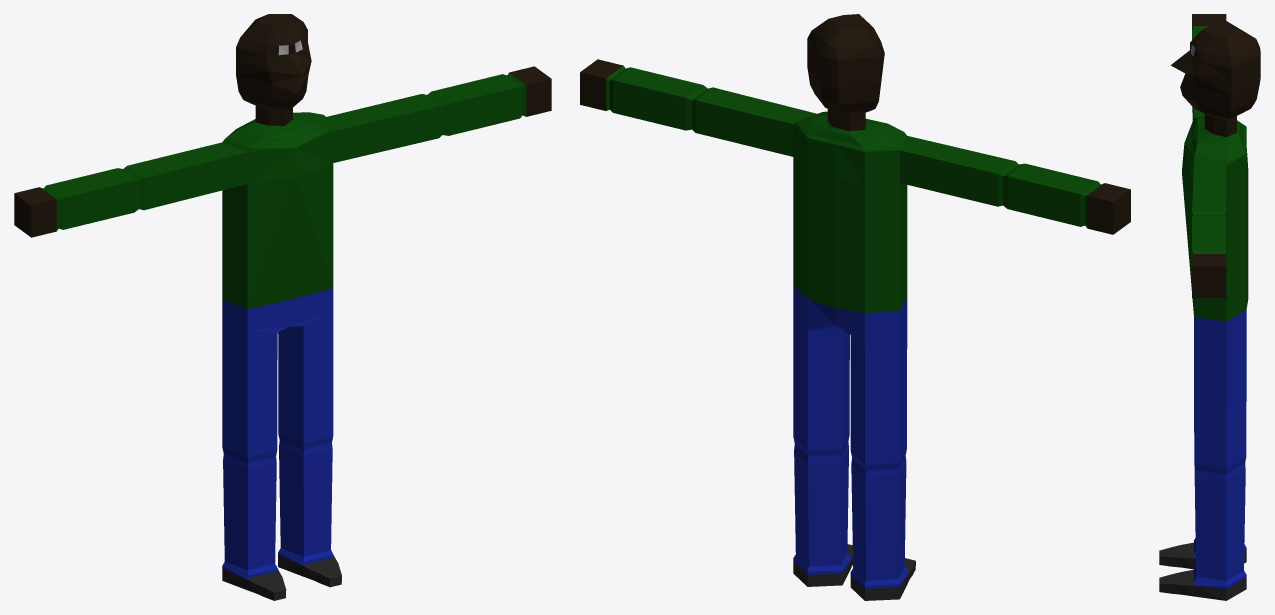
File: biped.obj
3 views of the same model, side by side, from view 1: azimuth 30°, elevation 25°; view 2: azimuth 150°, elevation 25°; view 3: azimuth 270°, elevation 25° (orthographic). The views are drawn at different scales.
Visible parts, largest first — view 1: Circle; view 2: Circle; view 3: Circle.
Part boxes in pixels (x1,y1,x2,y2): Circle: (14,14,551,600); Circle: (580,14,1130,600); Circle: (1159,14,1260,600).
Size of the model in its own units: 1.8 by 1.81 by 0.3045.
